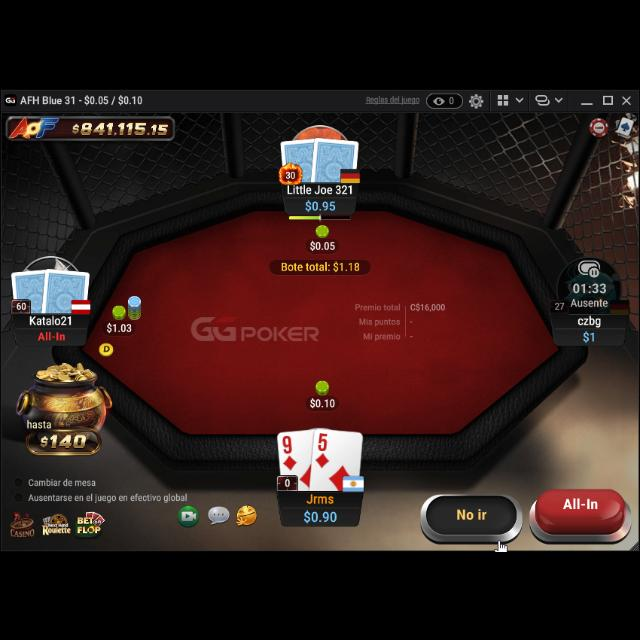5d: (314, 428, 332, 468)
9d: (280, 432, 300, 470)
all_in_symbol: (38, 327, 66, 339)
bet_text: (309, 236, 337, 250), (105, 318, 133, 332), (309, 395, 336, 407)
card_back: (310, 132, 360, 188), (41, 264, 91, 314), (10, 266, 54, 312), (280, 135, 320, 183)
dealer: (96, 337, 114, 355)
pot_text: (279, 260, 363, 270)
stack_text: (302, 506, 338, 522), (304, 196, 336, 212), (582, 328, 596, 342)
